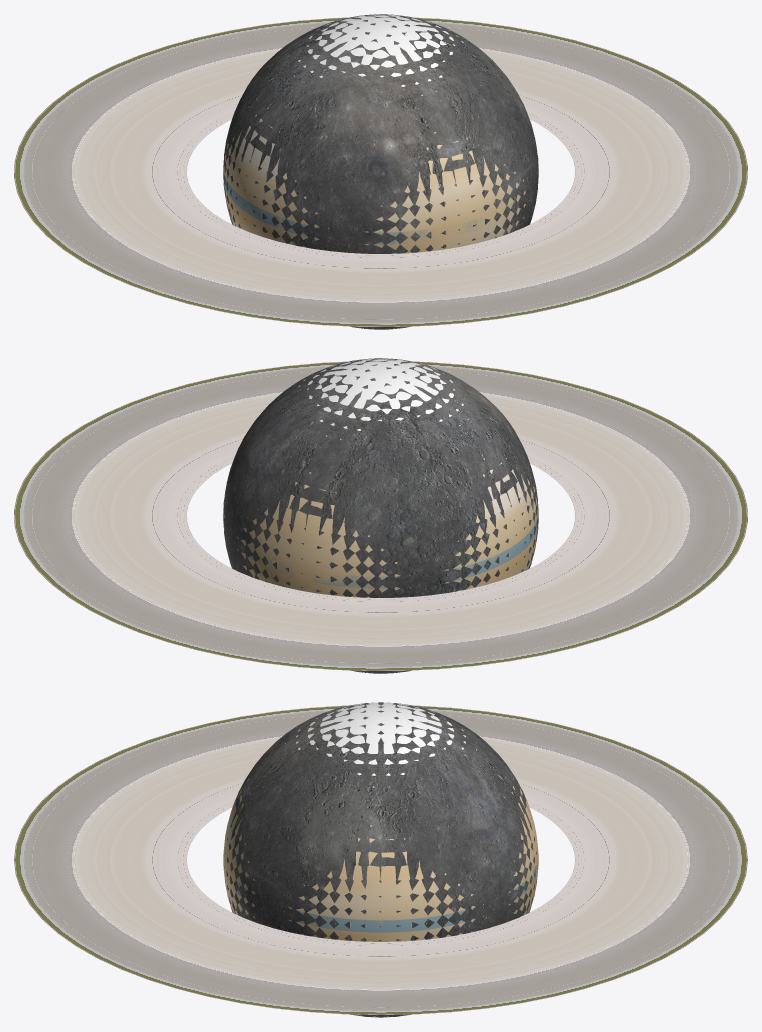
The model's file is planets.fbx.
3 renders of one model, top to bottom at view 1: azimuth 30°, elevation 25°; view 2: azimuth 150°, elevation 25°; view 3: azimuth 270°, elevation 25°, orthographic.
Visible parts, largest first — view 1: RingsTop, mercury, Venus, Neptune, Uranus; view 2: RingsTop, mercury, Venus, Neptune, Uranus; view 3: RingsTop, mercury, Venus, Neptune, Uranus.
Part boxes in pixels (left/top/right/bottom): RingsTop: left=14, top=17, right=747, bottom=326; mercury: left=223, top=14, right=538, bottom=329; Venus: left=223, top=14, right=538, bottom=328; Neptune: left=223, top=170, right=511, bottom=244; Uranus: left=223, top=179, right=511, bottom=244; RingsTop: left=14, top=361, right=747, bottom=670; mercury: left=223, top=358, right=538, bottom=673; Venus: left=223, top=358, right=538, bottom=672; Neptune: left=224, top=519, right=537, bottom=588; Uranus: left=224, top=514, right=538, bottom=588; RingsTop: left=14, top=705, right=747, bottom=1014; mercury: left=224, top=702, right=537, bottom=1017; Venus: left=223, top=702, right=538, bottom=1017; Neptune: left=229, top=866, right=536, bottom=932; Uranus: left=237, top=865, right=536, bottom=932.
Size of the model in its own units: 233 by 100 by 233.
